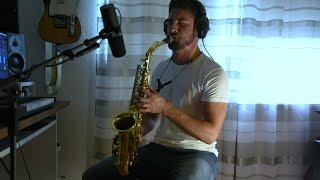Saxophone: (99, 41, 185, 180)
